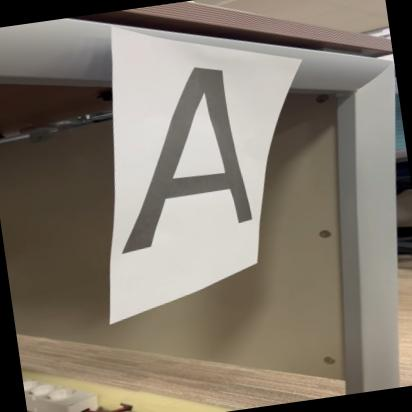seat: (102, 45, 304, 268)
